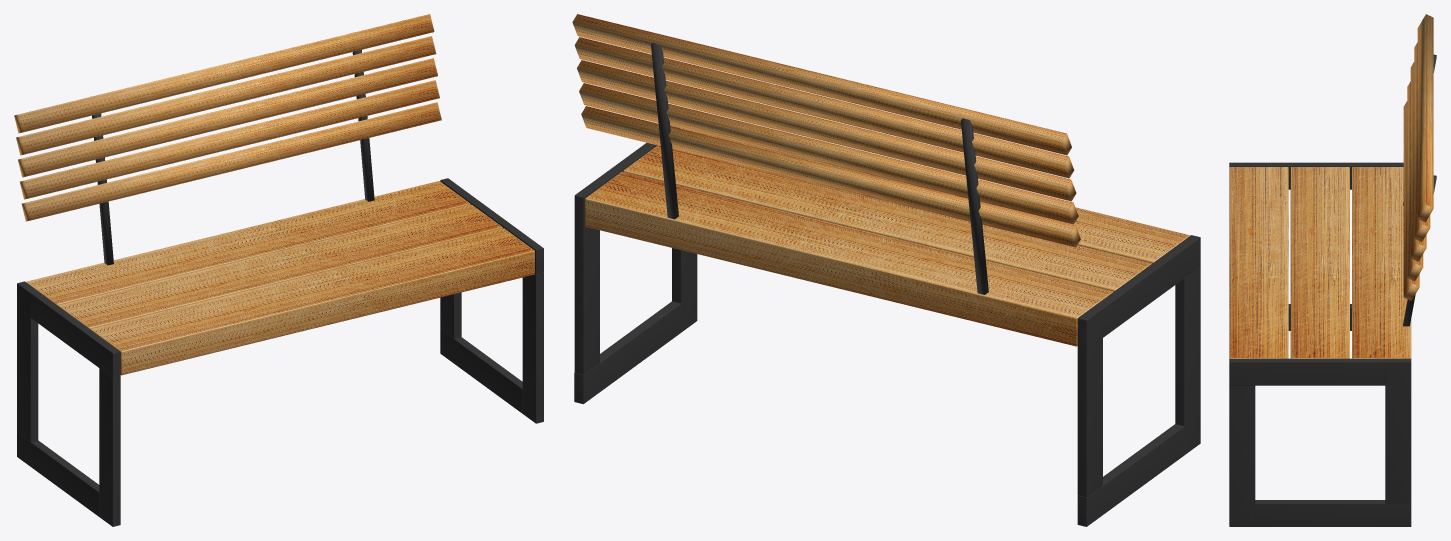
Rendered from Parkbank.fbx.
The picture shows the model from 3 angles, left to right: view 1: azimuth 30°, elevation 25°; view 2: azimuth 150°, elevation 25°; view 3: azimuth 270°, elevation 25°; orthographic projection. The views are drawn at different scales.
Parts seen in each view (by area): view 1: Würfel.6, Würfel.1.6, Würfel.2.6, Würfel.4, Würfel.1, Würfel.2, Würfel.3, Würfel, Würfel.4.2, Würfel.3.2, Würfel.2.4, Würfel.3.4 (+6 smaller); view 2: Würfel.2.6, Würfel.1.6, Würfel.4, Würfel, Würfel.1, Würfel.3, Würfel.2, Würfel.2.4, Würfel.4.2, Würfel.2.3, Würfel.6, Würfel.1.3 (+5 smaller); view 3: Würfel.6, Würfel.1.6, Würfel.2.6, Würfel.3.3, Würfel.1.3, Würfel.2.3, Würfel.3.2, Würfel.4, Würfel, Würfel.2, Würfel.1, Würfel.3 (+2 smaller).
Part boxes in pixels (x1,y1,x2,y2): Würfel.6: [90, 228, 534, 375]; Würfel.1.6: [58, 204, 502, 329]; Würfel.2.6: [26, 181, 470, 305]; Würfel.4: [14, 14, 434, 133]; Würfel.1: [20, 80, 439, 199]; Würfel.2: [18, 58, 437, 177]; Würfel.3: [16, 36, 436, 155]; Würfel: [21, 102, 441, 221]; Würfel.4.2: [99, 368, 120, 526]; Würfel.3.2: [522, 273, 543, 423]; Würfel.2.4: [17, 281, 38, 441]; Würfel.3.4: [30, 291, 120, 377]; Würfel.2.6: [585, 171, 1113, 346]; Würfel.1.6: [623, 145, 1151, 291]; Würfel.4: [572, 14, 1071, 155]; Würfel: [581, 106, 1080, 247]; Würfel.1: [579, 83, 1078, 224]; Würfel.3: [574, 37, 1074, 178]; Würfel.2: [577, 60, 1076, 201]; Würfel.2.4: [1077, 306, 1102, 497]; Würfel.4.2: [1175, 266, 1200, 455]; Würfel.2.3: [574, 183, 599, 374]; Würfel.6: [680, 128, 1190, 263]; Würfel.1.3: [574, 301, 681, 404]; Würfel.6: [1229, 167, 1288, 358]; Würfel.1.6: [1290, 167, 1349, 358]; Würfel.2.6: [1352, 167, 1411, 358]; Würfel.3.3: [1229, 358, 1385, 385]; Würfel.1.3: [1255, 500, 1411, 526]; Würfel.2.3: [1385, 358, 1411, 503]; Würfel.3.2: [1229, 385, 1255, 526]; Würfel.4: [1417, 14, 1433, 222]; Würfel: [1403, 101, 1419, 300]; Würfel.2: [1410, 62, 1426, 261]; Würfel.1: [1407, 81, 1423, 281]; Würfel.3: [1414, 42, 1430, 241].
Size of the model in its own units: 710 by 527 by 312.
2 materials, 1 textured.
